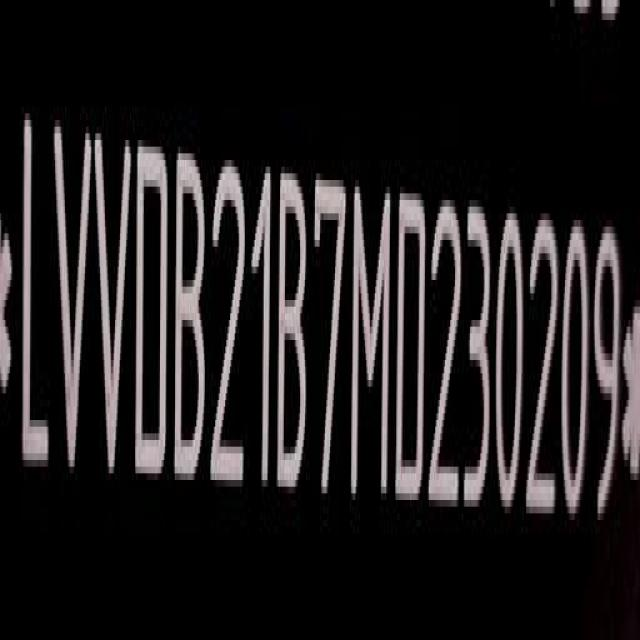0: (562, 224, 592, 516), (498, 214, 526, 516)
1: (252, 165, 276, 490)
2: (212, 162, 249, 491), (527, 220, 560, 520), (432, 195, 463, 512)
3: (465, 200, 494, 514)
7: (315, 168, 348, 494)
9: (594, 227, 622, 514)
B: (173, 148, 206, 481), (278, 167, 310, 490)
D: (133, 134, 169, 479), (395, 184, 429, 504)
L: (20, 113, 52, 474)
M: (352, 176, 393, 498)
V: (52, 122, 92, 473), (95, 120, 133, 475)
